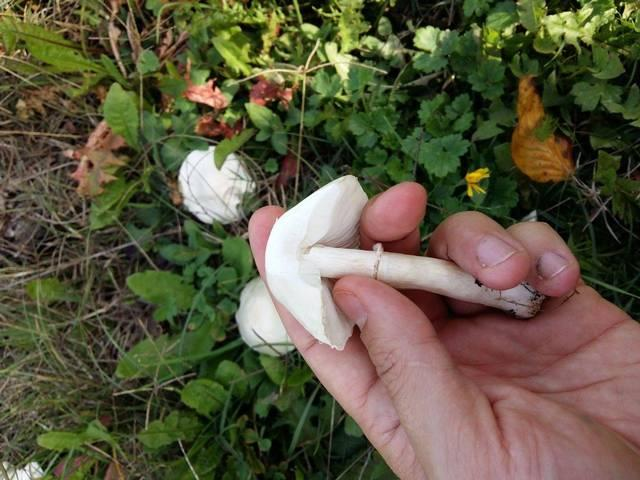poisonous_mushroom: (254, 173, 549, 353), (176, 144, 256, 226), (234, 275, 296, 357)
